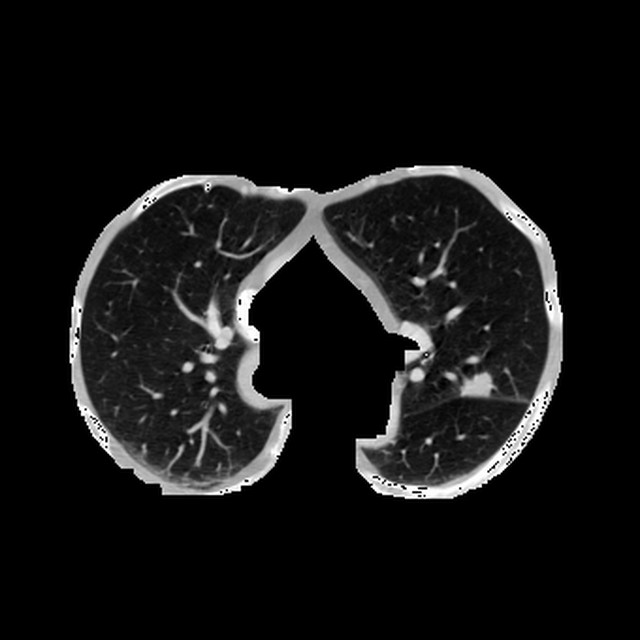PN: (465, 373, 491, 399)
